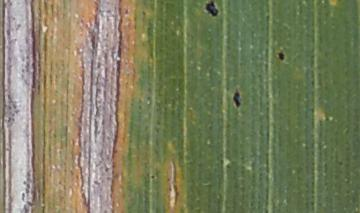tarspot: (206, 1, 220, 18), (232, 89, 241, 109), (277, 50, 286, 62), (18, 190, 27, 202), (140, 8, 147, 17), (149, 173, 156, 180), (124, 7, 130, 15)
